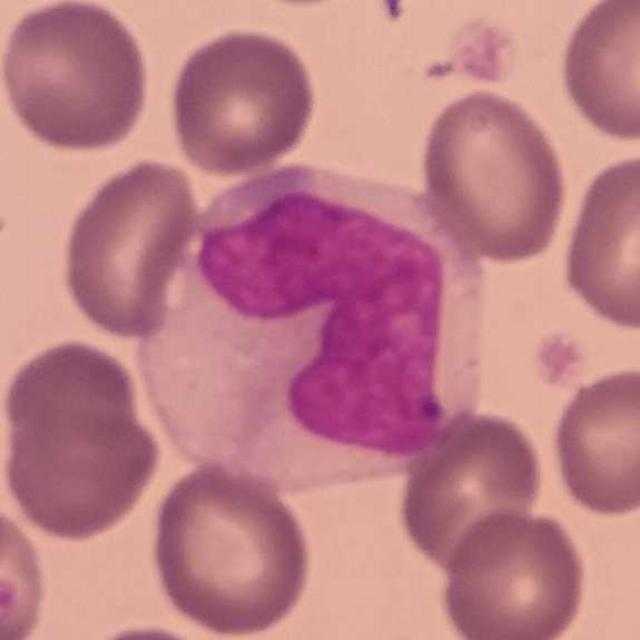Monocyte: (137, 165, 496, 493)
Platelets: (447, 14, 521, 88), (524, 324, 586, 392)
RBC: (0, 350, 166, 544), (145, 455, 317, 640), (414, 85, 572, 266), (56, 154, 204, 342), (393, 405, 548, 576), (164, 25, 320, 178), (0, 0, 152, 154), (436, 505, 591, 640), (0, 337, 144, 454), (556, 147, 640, 335), (546, 362, 640, 521), (554, 0, 640, 147), (0, 497, 52, 640), (62, 620, 238, 640)
